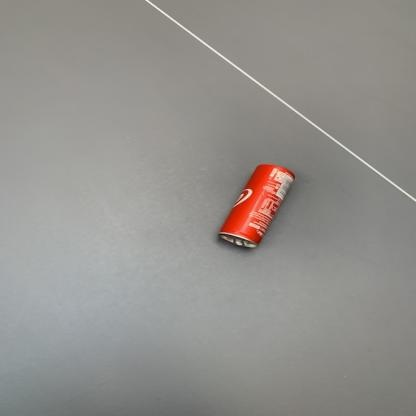trash: (219, 164, 294, 247)
